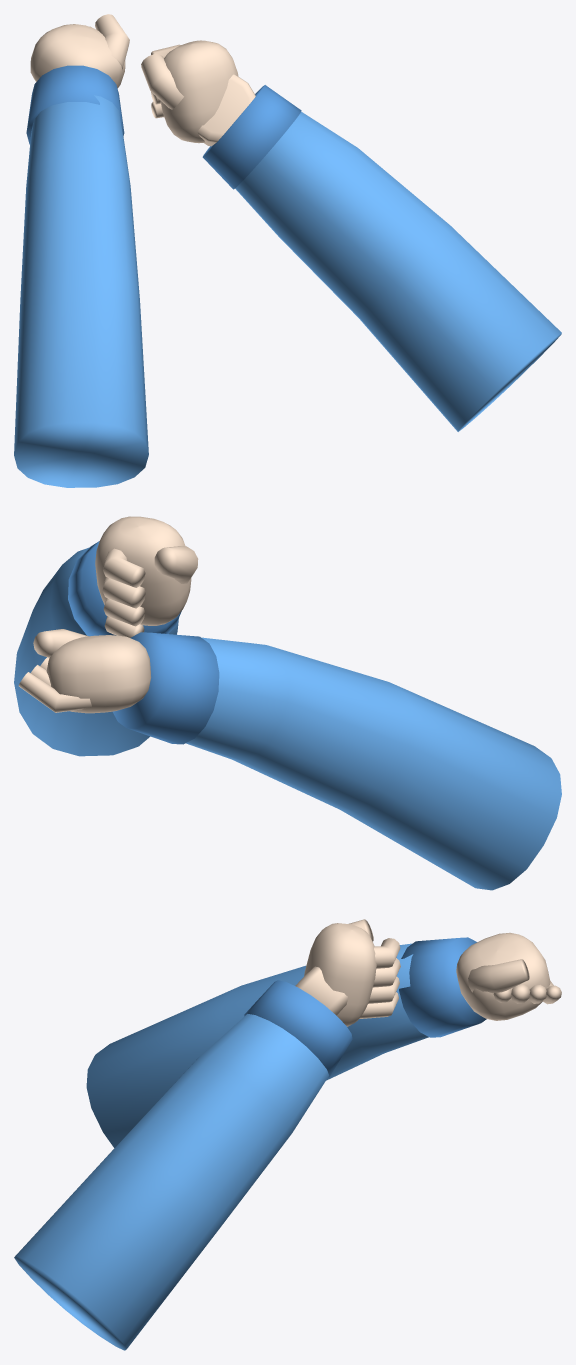
The model's file is fp_arms.glb.
The picture shows the model from 3 angles, top to bottom: view 1: azimuth 30°, elevation 25°; view 2: azimuth 150°, elevation 25°; view 3: azimuth 270°, elevation 25°; orthographic projection. The views are drawn at different scales.
Visible parts, largest first — view 1: RightArm, LeftArm; view 2: LeftArm, RightArm; view 3: RightArm, LeftArm.
Boxes of the visible parts, bbox=[...] form: RightArm: bbox=[141, 40, 561, 431]; LeftArm: bbox=[14, 14, 148, 487]; LeftArm: bbox=[18, 629, 561, 890]; RightArm: bbox=[14, 516, 198, 756]; RightArm: bbox=[14, 919, 400, 1350]; LeftArm: bbox=[86, 932, 561, 1147].
Bounding box in the file's own units: 0.5373 × 0.3359 × 0.4963.
